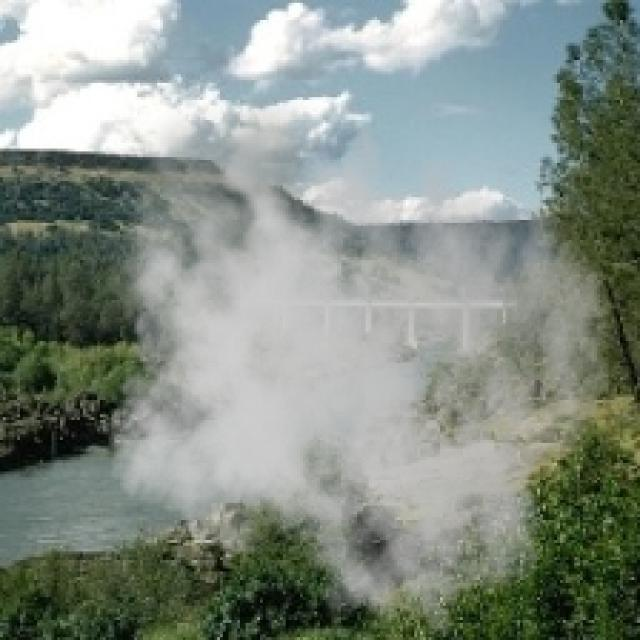Smoke: (91, 85, 612, 638)
